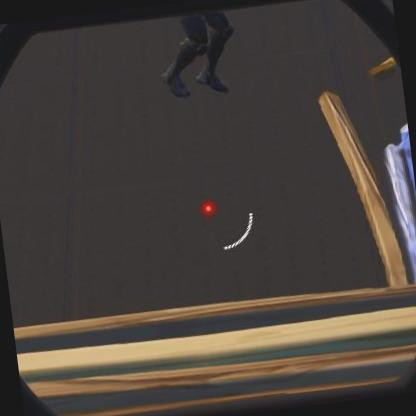person: (151, 8, 241, 102)
